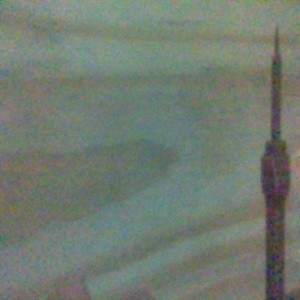solder: (260, 25, 292, 300)
